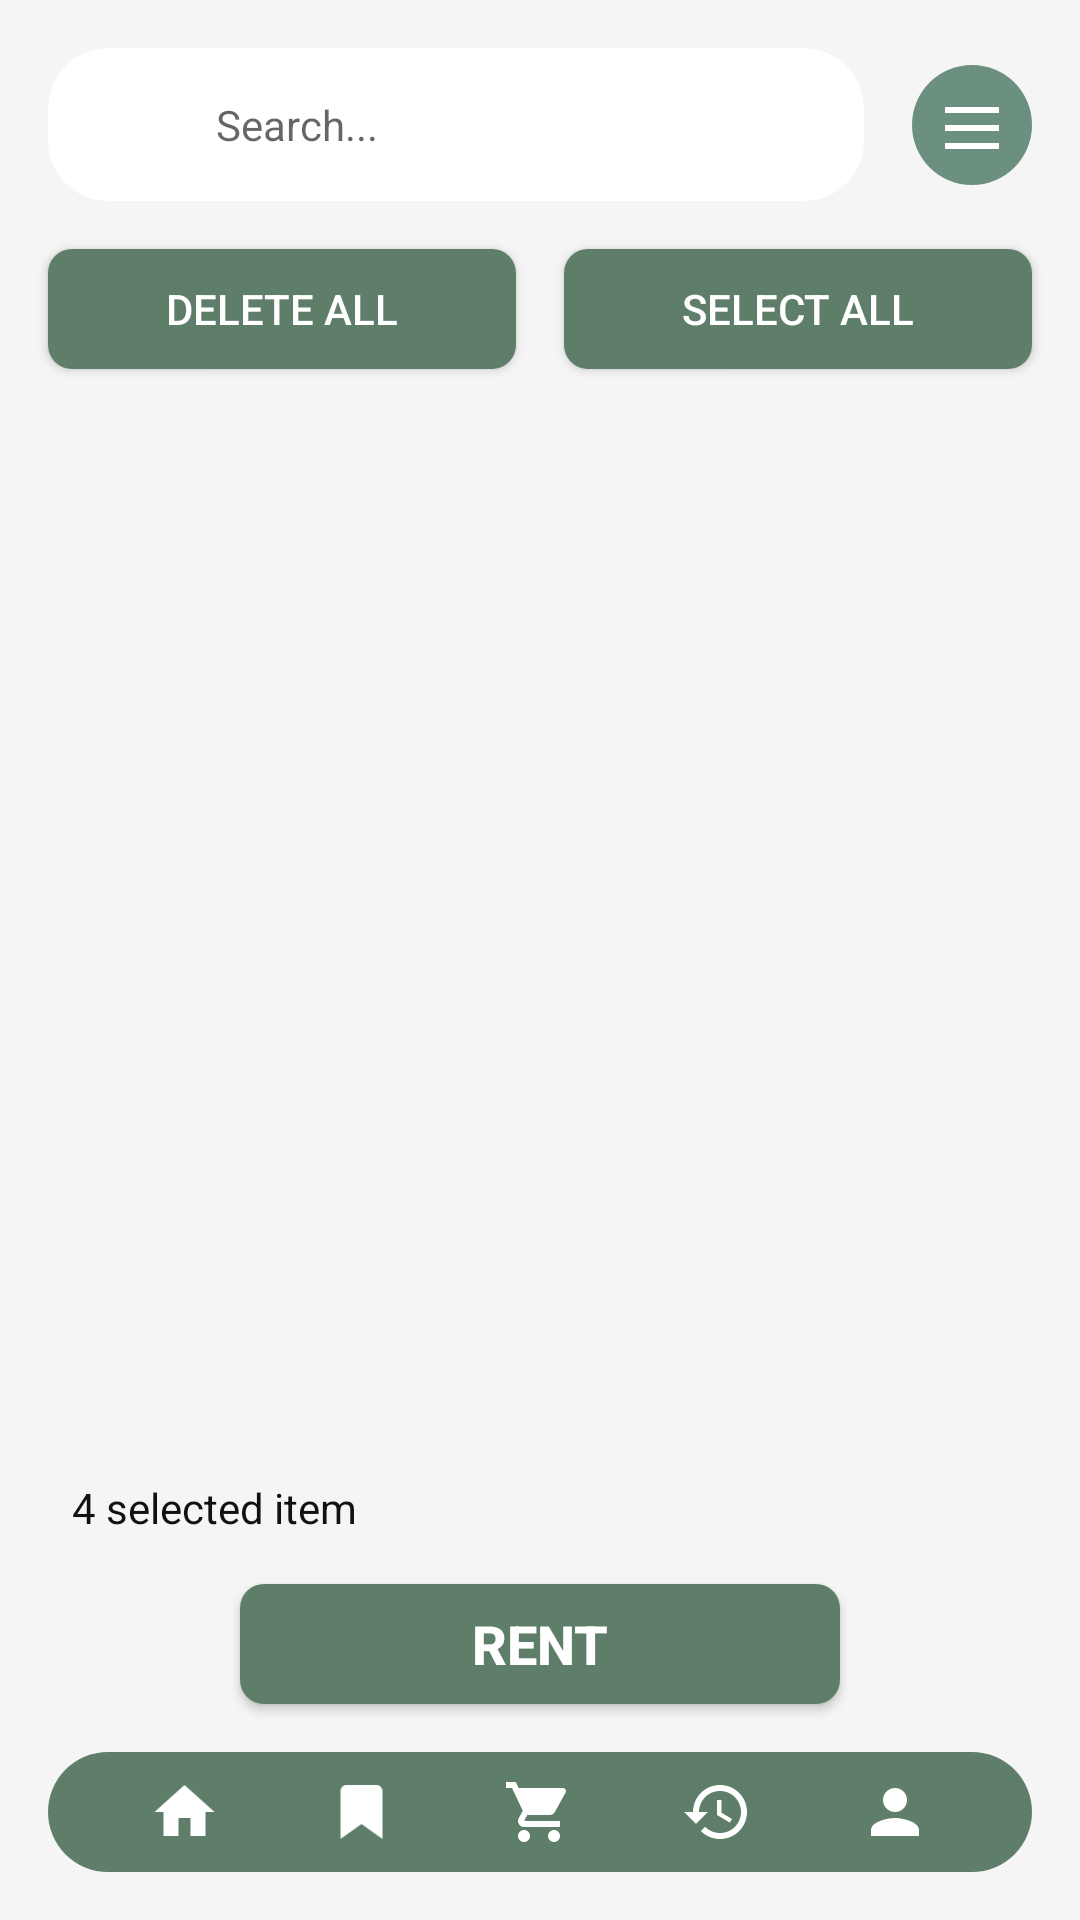

Icon bounding boxes for this 1080*1920 phone screenshot, format (x1, y1, x2, y2):
Cart: (506, 1782, 566, 1842)
History: (684, 1785, 747, 1839)
Home: (154, 1785, 215, 1836)
menu: (912, 65, 1032, 185)
Profile: (871, 1788, 919, 1836)
Saved: (340, 1785, 383, 1839)
